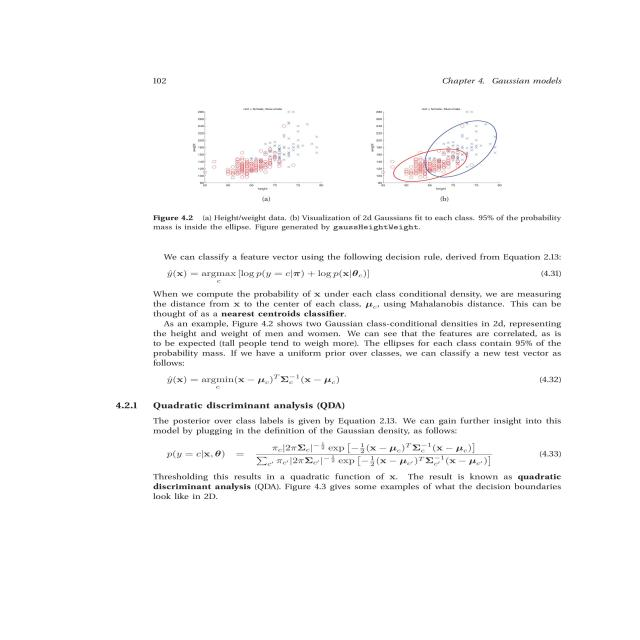diagram: (120, 70, 612, 242)
